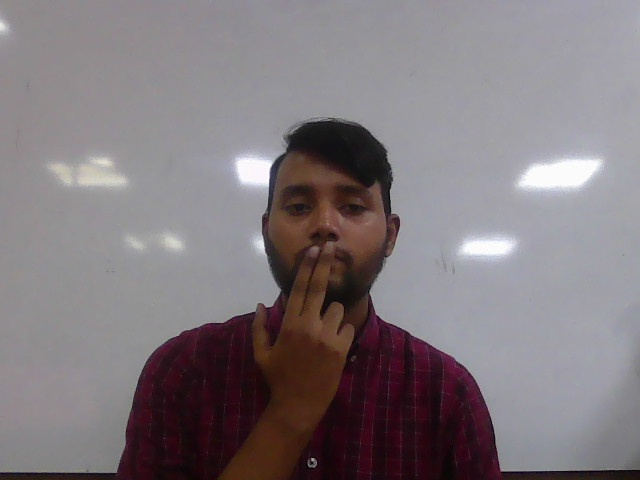Bak: (250, 238, 355, 415)
